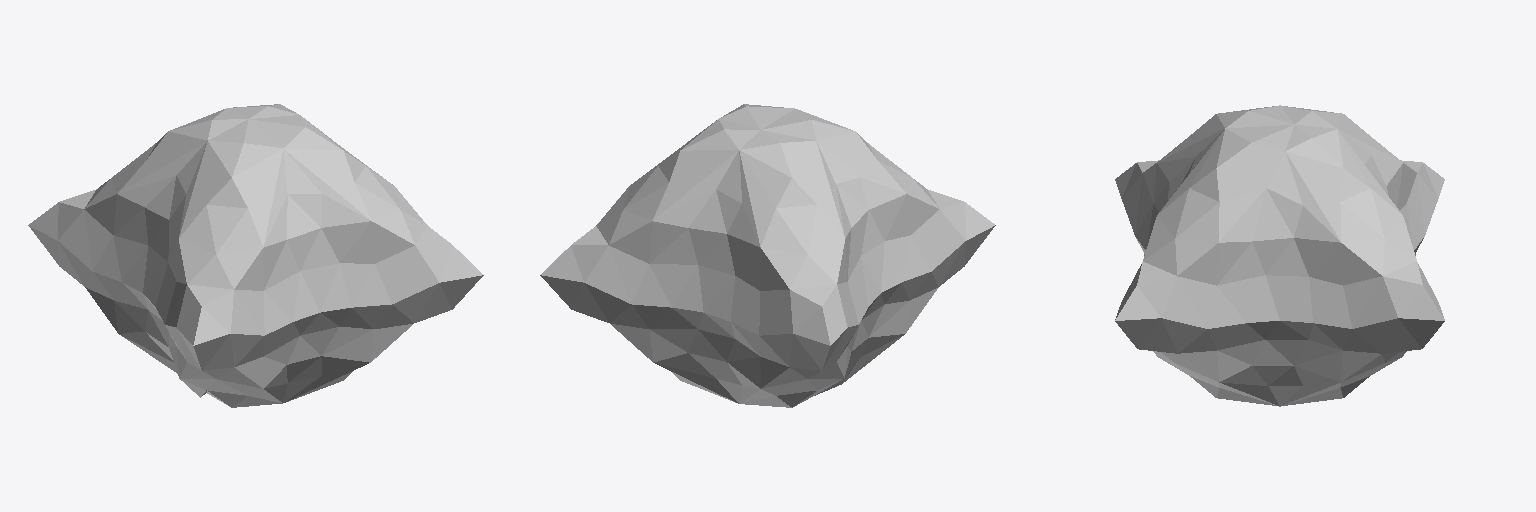
The model's file is MachineGunAmmo_LOD0.obj.
3 renders of one model, left to right at view 1: azimuth 30°, elevation 25°; view 2: azimuth 150°, elevation 25°; view 3: azimuth 270°, elevation 25°, orthographic.
Visible parts, largest first — view 1: Cube_Cube.001; view 2: Cube_Cube.001; view 3: Cube_Cube.001.
Boxes of the visible parts, <box> form: Cube_Cube.001: <box>28,104,483,407</box>; Cube_Cube.001: <box>540,104,995,407</box>; Cube_Cube.001: <box>1115,105,1444,406</box>.
Size of the model in its own units: 0.9151 by 0.791 by 0.9012.